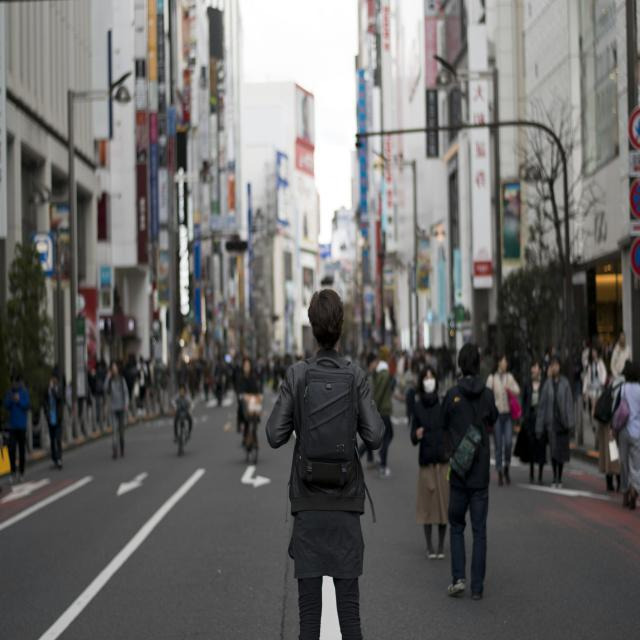adult: (267, 287, 387, 640), (444, 342, 496, 597), (410, 367, 449, 557), (542, 351, 573, 486), (487, 351, 517, 482), (516, 356, 544, 479)
